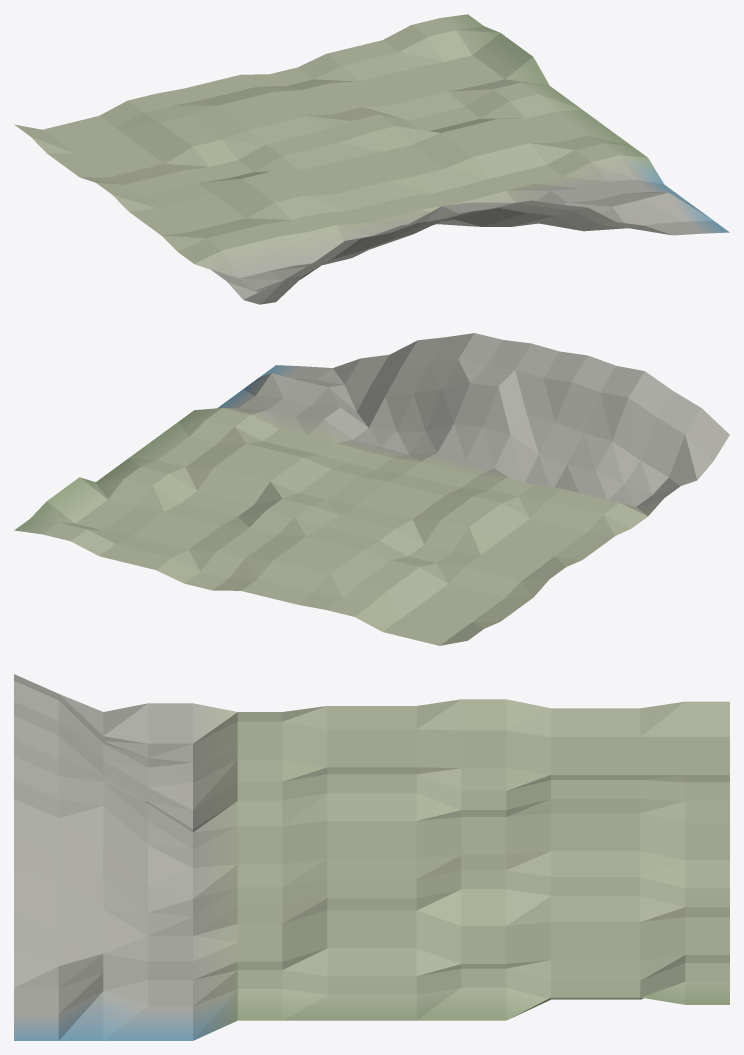
3 renders of one model, top to bottom at view 1: azimuth 30°, elevation 25°; view 2: azimuth 150°, elevation 25°; view 3: azimuth 270°, elevation 25°, orthographic. The views are drawn at different scales.
Bounding box in the file's own units: 32 × 5.78 × 32.
